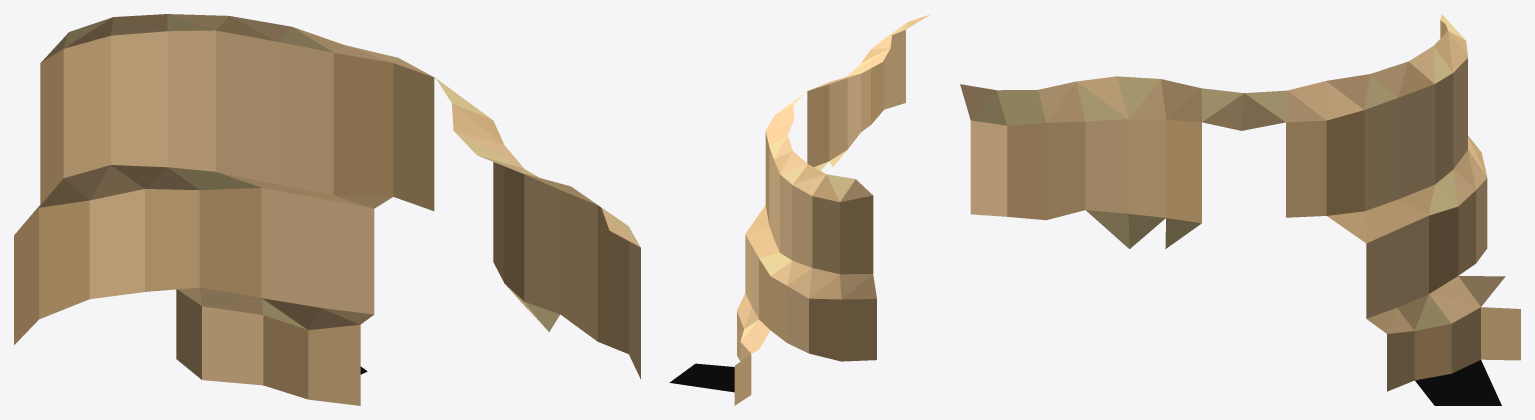
3 views of the same model, side by side, from view 1: azimuth 30°, elevation 25°; view 2: azimuth 150°, elevation 25°; view 3: azimuth 270°, elevation 25° (orthographic). The views are drawn at different scales.
Visible parts, largest first — view 1: O360E4; view 2: O360E4; view 3: O360E4.
Boxes of the visible parts, x1,y1,x2,y2 form: O360E4: [14, 14, 640, 405]; O360E4: [669, 14, 930, 405]; O360E4: [960, 14, 1520, 405].
Size of the model in its own units: 66.41 by 76 by 133.
